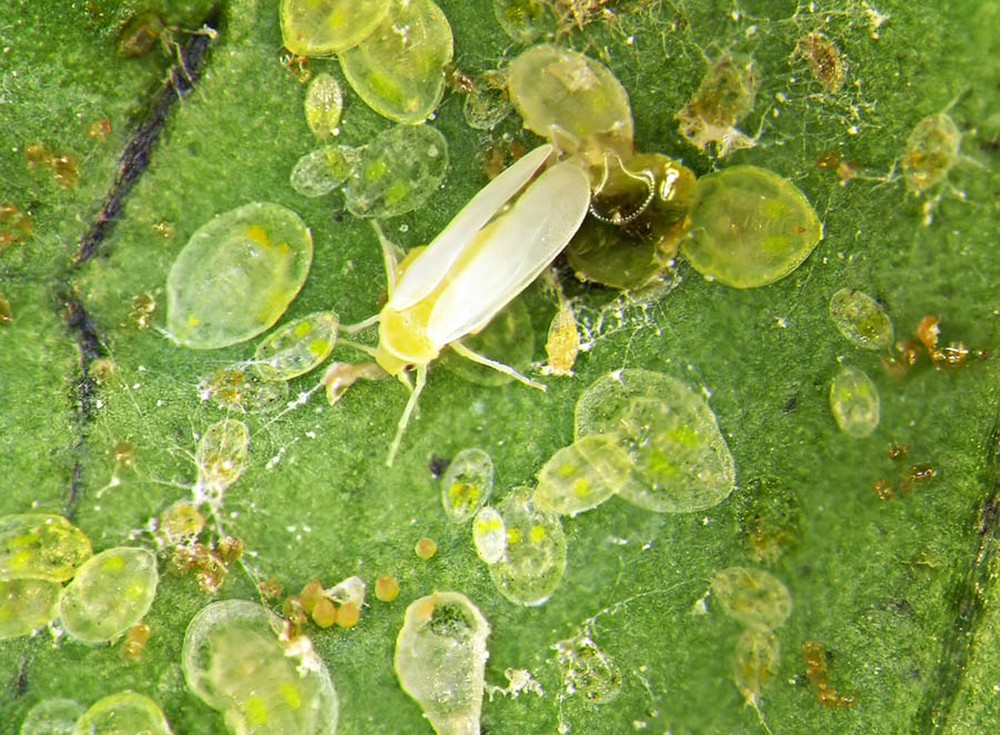Mosca Blanca: (313, 137, 638, 456)
